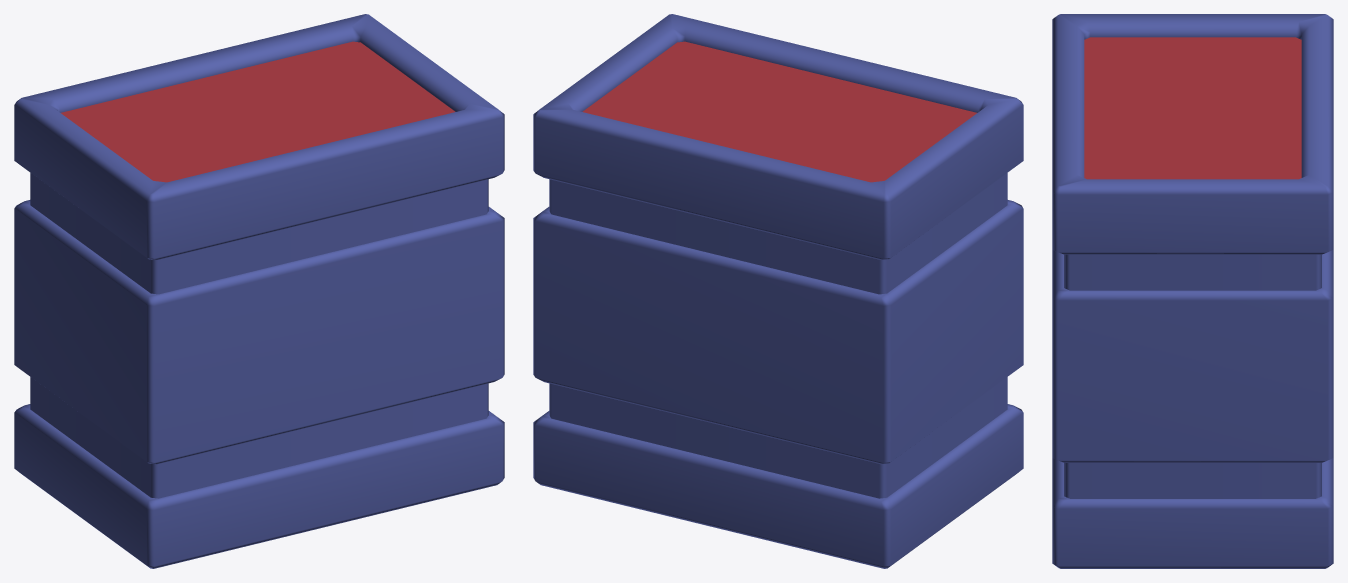
File: SM_Lamp_01.fbx
3 renders of one model, left to right at view 1: azimuth 30°, elevation 25°; view 2: azimuth 150°, elevation 25°; view 3: azimuth 270°, elevation 25°, orthographic.
Visible parts, largest first — view 1: SM_Lamp_01; view 2: SM_Lamp_01; view 3: SM_Lamp_01.
Part boxes in pixels (x1,y1,x2,y2): SM_Lamp_01: (14,14,504,568); SM_Lamp_01: (533,14,1023,568); SM_Lamp_01: (1052,14,1333,568).
Size of the model in its own units: 50 by 50 by 33.38.
